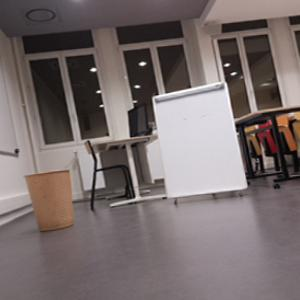big: (153, 82, 249, 199)
medium: (25, 169, 74, 231)
